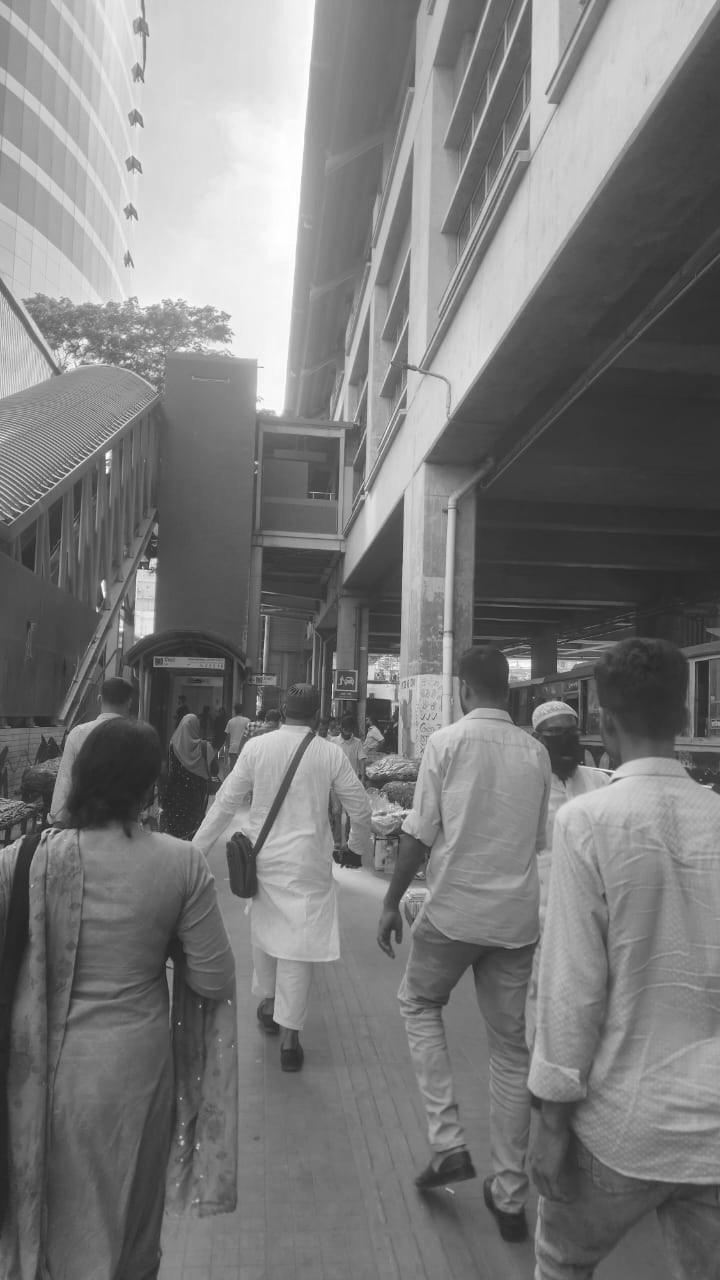Metro Dorp Up Pick up: (332, 668, 358, 706)
